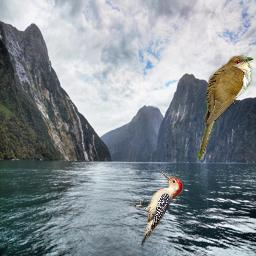Cuckoo: (197, 55, 254, 160)
Woodpecker: (133, 171, 184, 247)
